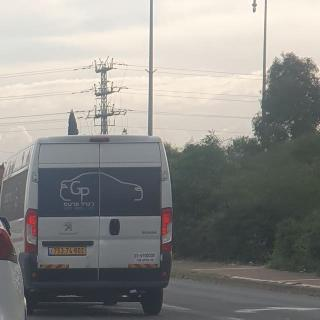LicensePlate: (52, 247, 85, 254)
